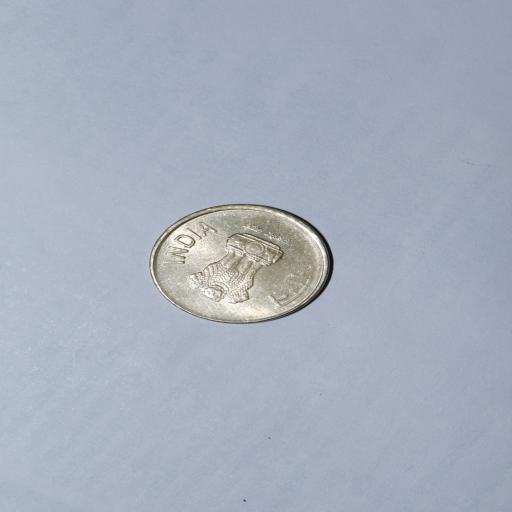rupee5: (147, 203, 334, 324)
